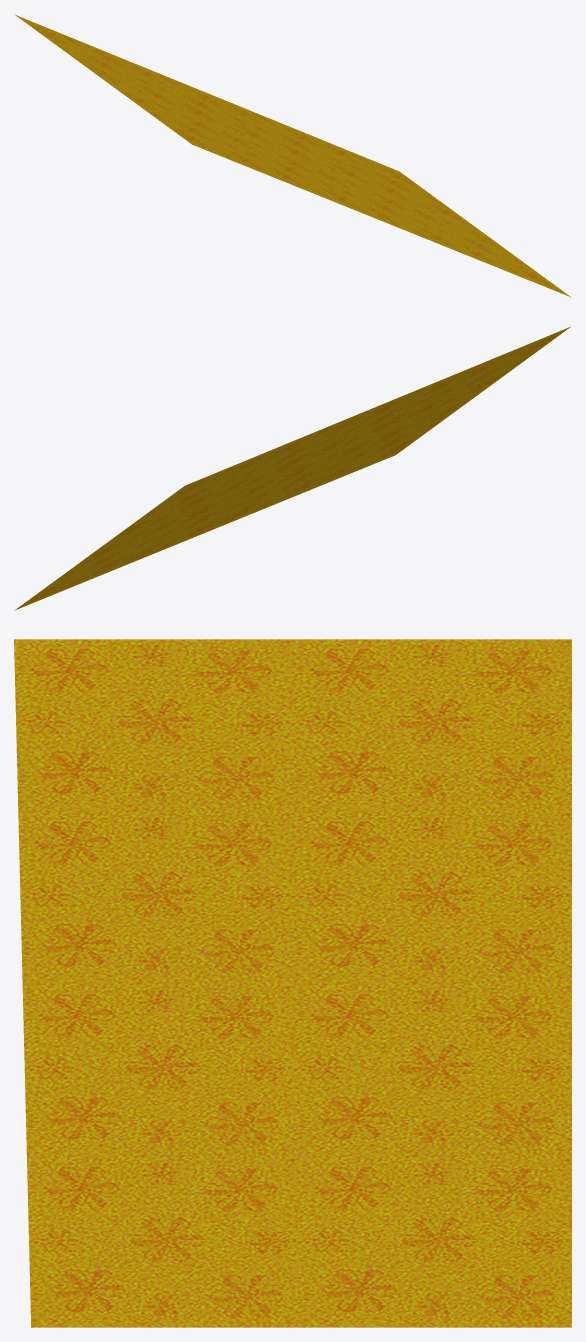
Rendered from Boden4xSchräg_1967.glb.
The picture shows the model from 3 angles, top to bottom: view 1: azimuth 30°, elevation 25°; view 2: azimuth 150°, elevation 25°; view 3: azimuth 270°, elevation 25°; orthographic projection. The views are drawn at different scales.
Parts seen in each view (by area): view 1: pPlaneShape8; view 2: pPlaneShape8; view 3: pPlaneShape8.
Part boxes in pixels (x1,y1,x2,y2): pPlaneShape8: [14, 14, 571, 297]; pPlaneShape8: [15, 326, 570, 610]; pPlaneShape8: [14, 639, 571, 1327].
Bounding box in the file's own units: 1.25 × 0.7783 × 1.
Materials: 1 (1 with a texture image).
